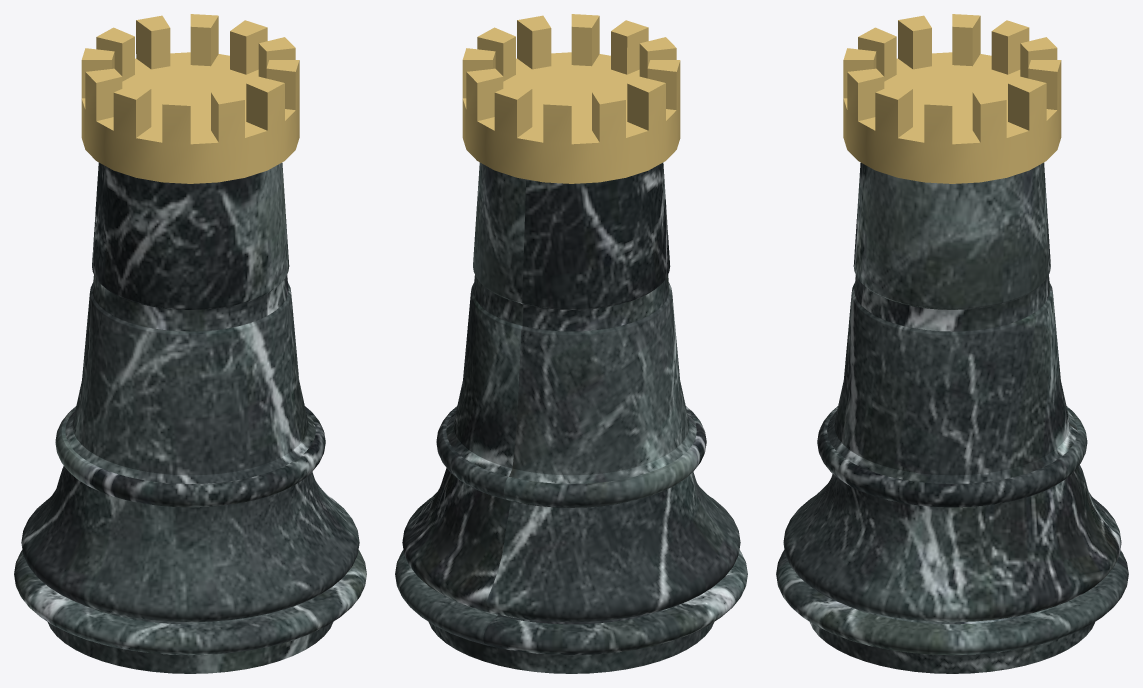
3 views of the same model, side by side, from view 1: azimuth 30°, elevation 25°; view 2: azimuth 150°, elevation 25°; view 3: azimuth 270°, elevation 25° (orthographic).
Visible parts, largest first — view 1: x; view 2: x; view 3: x.
Boxes of the visible parts, x1=… form: x: x1=14, y1=14, x2=366, y2=673; x: x1=395, y1=14, x2=747, y2=673; x: x1=776, y1=14, x2=1128, y2=673.
Bounding box in the file's own units: 0.5195 × 0.9 × 0.5192.
2 materials, 1 textured.
